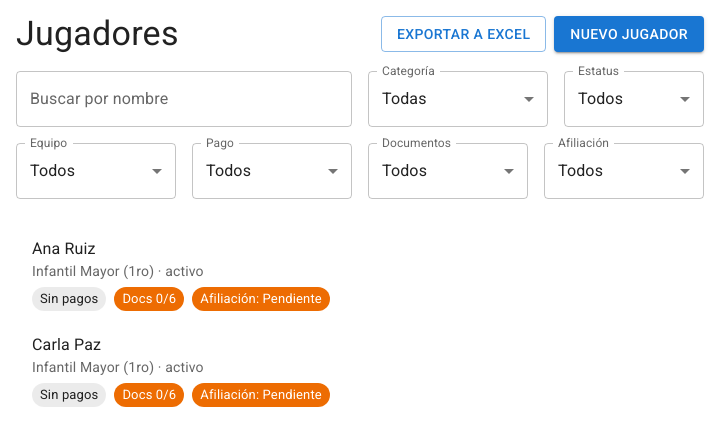
Test case: category filter distinguishes categories that share a name
This screenshot has width=722, height=424.
Expected: the text "Carla Paz" is shown, [32,335,101,354]
Step 1. Select "Infantil Mayor" in the dropdown labelled "Categoría" → [458, 99], box [368,71,548,127]
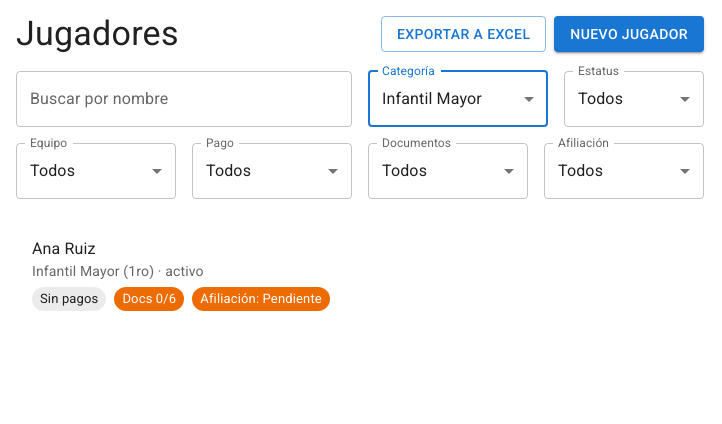
Expected: the text "Ana Ruiz" is shown, [32,239,96,258]
Now the link "Carla Paz" is gone
